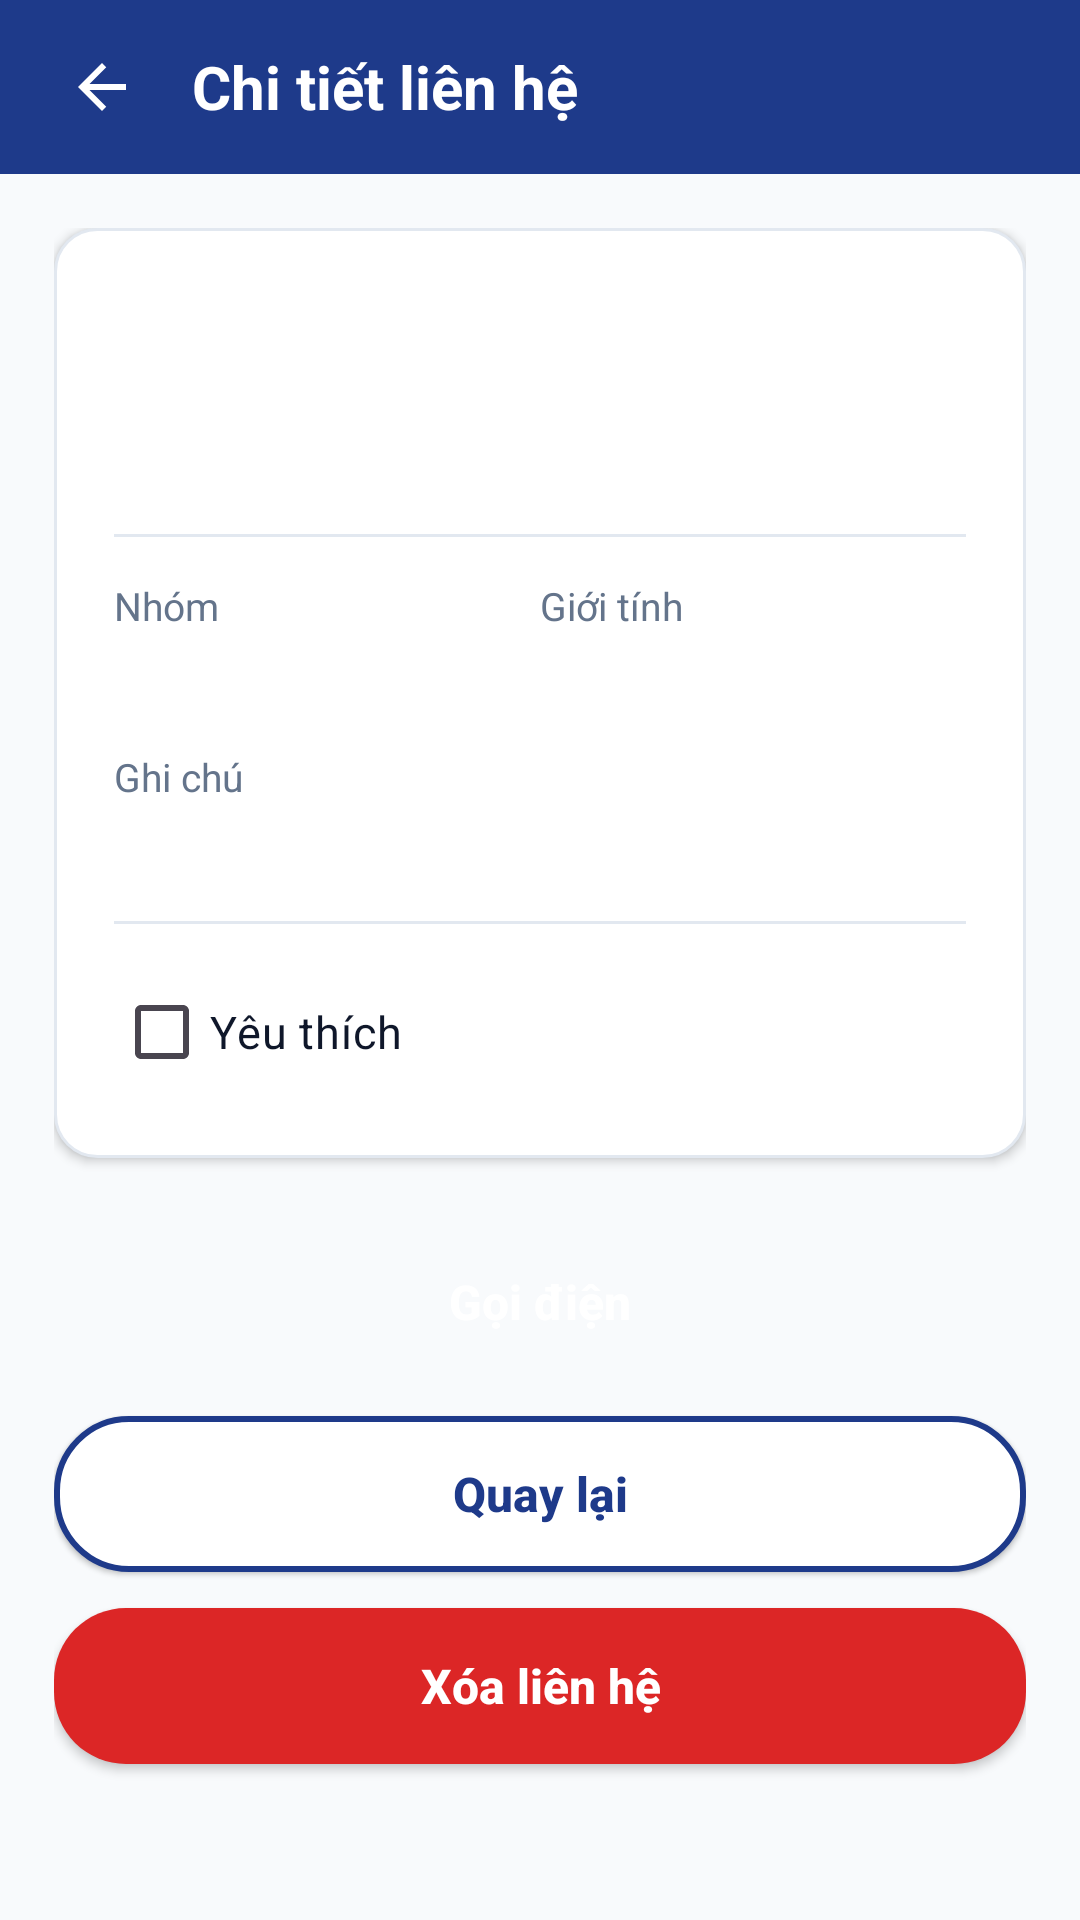

Where to tap for icons on this 1080x1920 app screen, as point (x, y):
Quay lại: point (102, 87)
